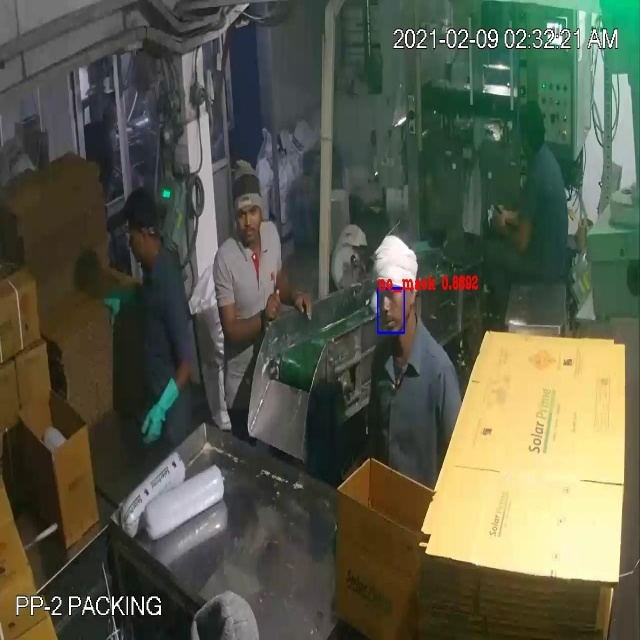Guantes: (86, 276, 153, 339), (138, 368, 185, 456)
Sin_guantes: (214, 287, 284, 354), (488, 198, 537, 261), (267, 258, 314, 323)
